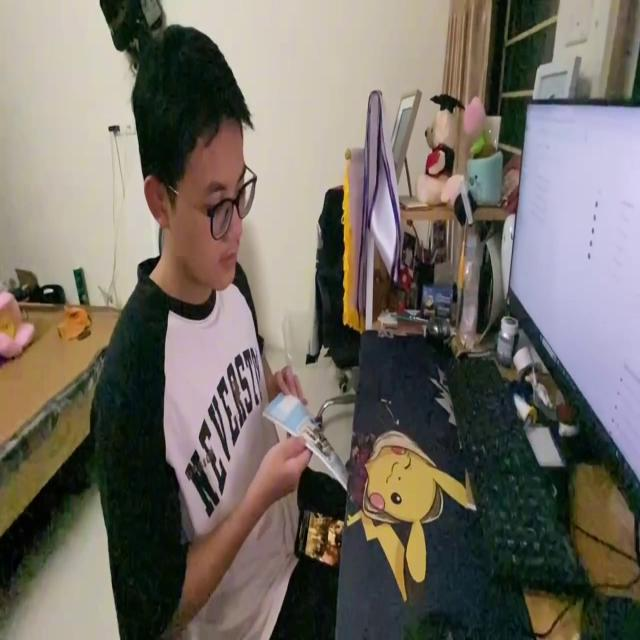book: (262, 390, 347, 499)
laptop: (504, 91, 640, 531)
phone: (294, 499, 345, 575)
student: (83, 23, 341, 640)
